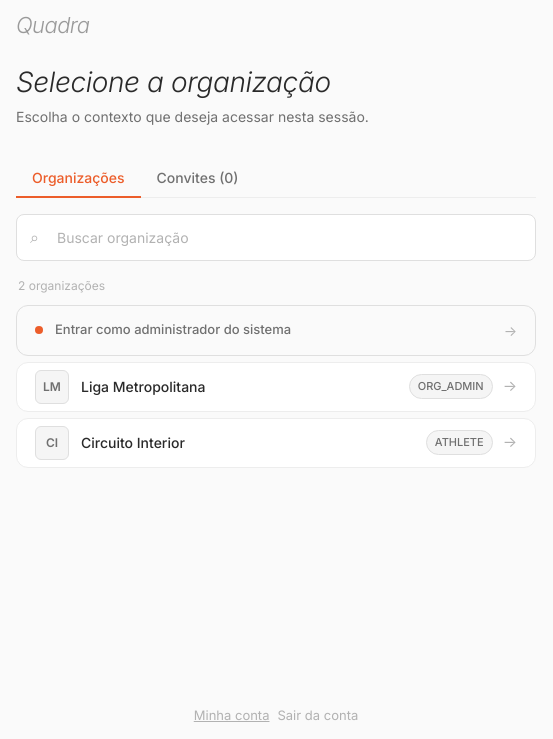
OrgSelectionPage › shows invite empty state when api returns no invites
What coordinates should you click on to do the following:
click the tab "Convites (0)"
I would click on:
 (198, 178)
Its box is [140, 159, 254, 198].
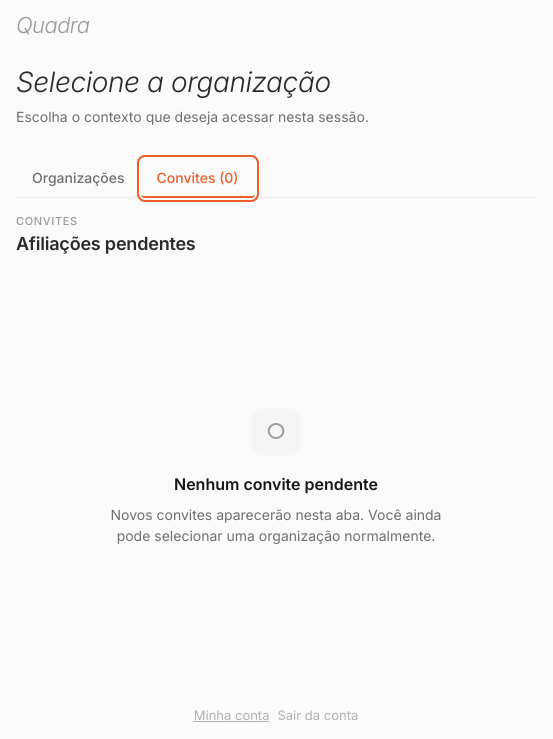
Now the text "Nenhum convite pendente" is shown, box [174, 472, 378, 496]
